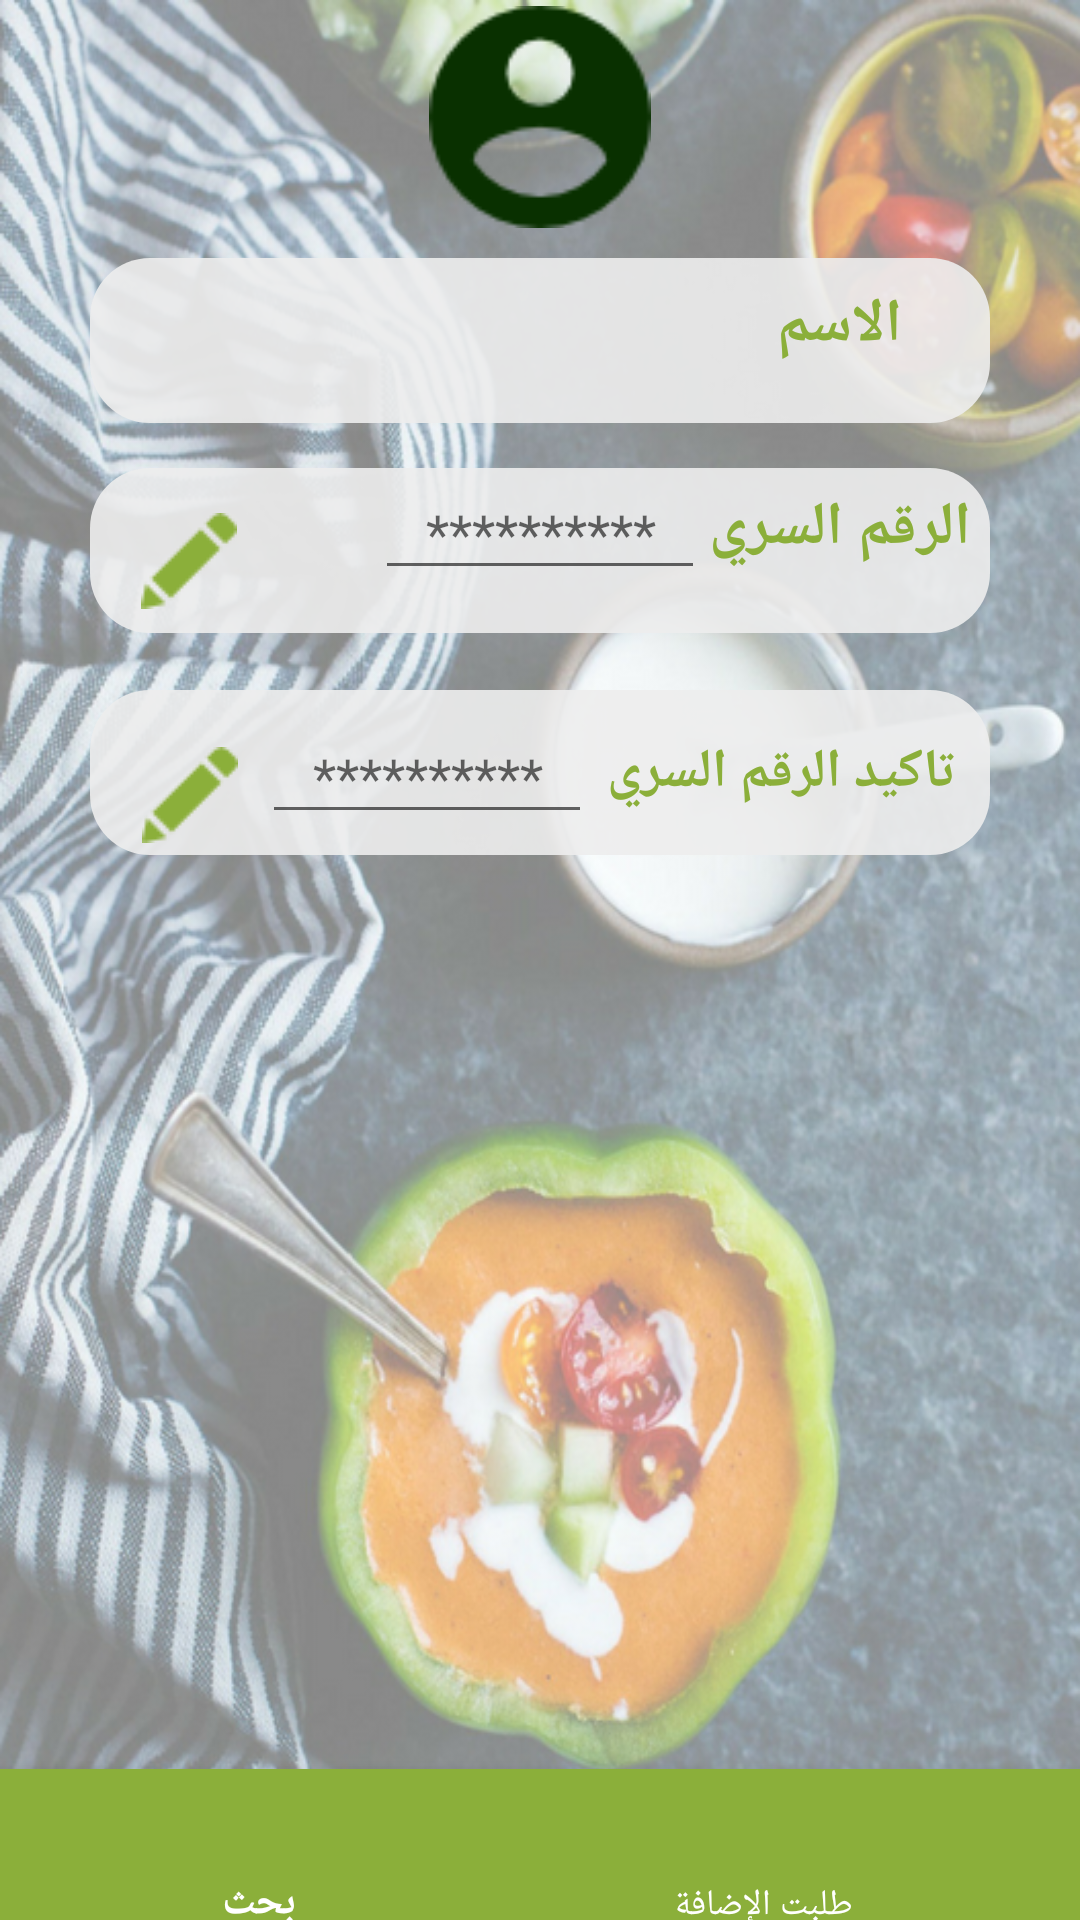

Where icons sit on this 1080 x 1920 app screen, as (x1, y1, x2, y2):
edit: (66, 423, 237, 609), (70, 747, 238, 843)
